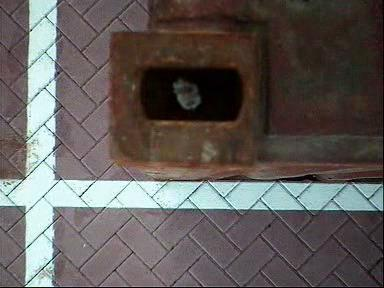groundmarker_2: (84, 71, 144, 107), (84, 234, 144, 270)
